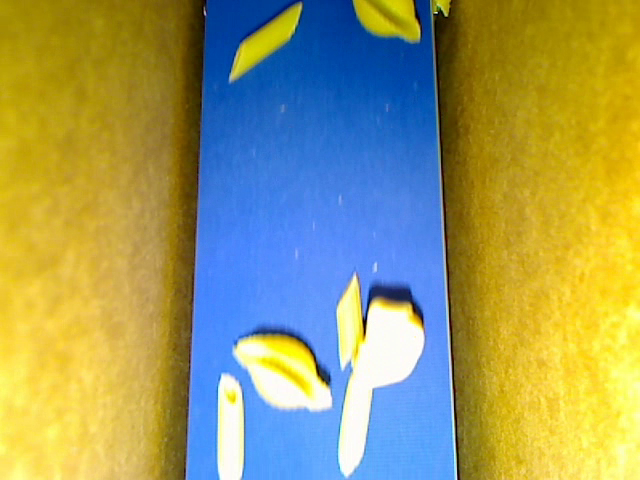penne: (227, 2, 302, 83), (336, 362, 373, 478), (333, 270, 364, 371), (216, 373, 244, 479)
shell: (231, 332, 332, 411), (353, 1, 420, 44)
